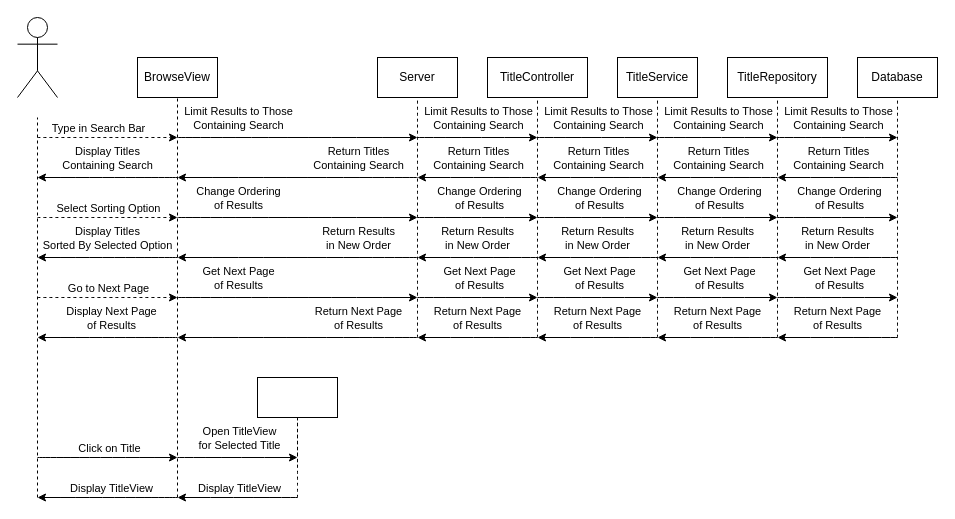
This 955x519 diagram has some shape labels left out. Here are the shapes that lost their labels. From the top down, the box of each, then its label:
(16, 16, 58, 98): User
(256, 376, 338, 418): TitleView
